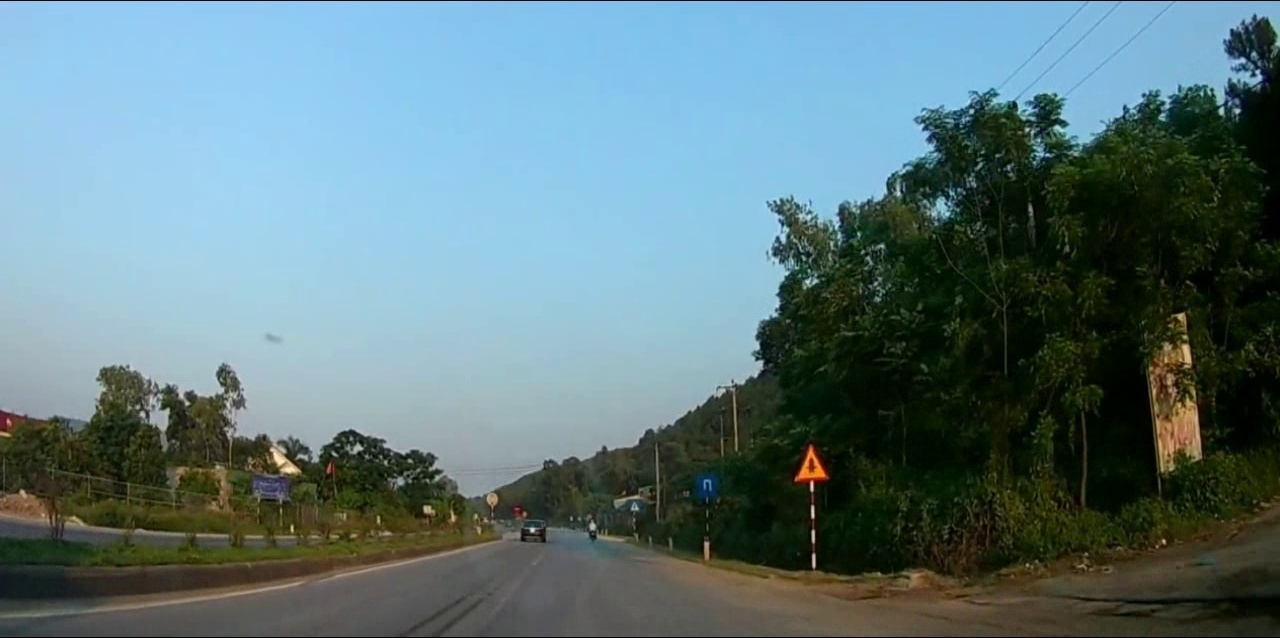Bien khac: (698, 471, 721, 497)
Cam di nguoc chieu: (512, 504, 522, 514)
Giao nhau voi duong khong uu tien: (793, 442, 832, 482)
Nguoi di bo: (627, 498, 642, 512)
